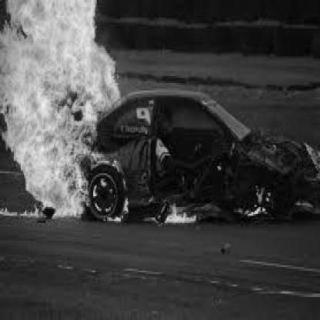Fire: (154, 190, 202, 234)
